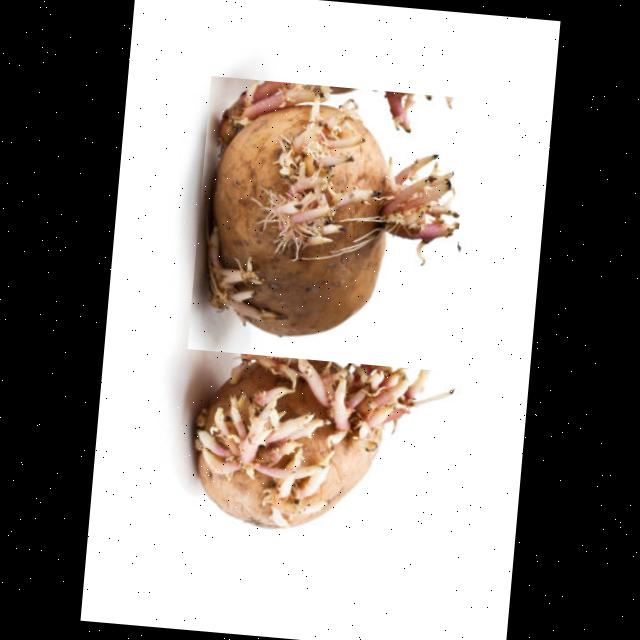Sprouted potato: (187, 74, 470, 370), (168, 328, 430, 557)
